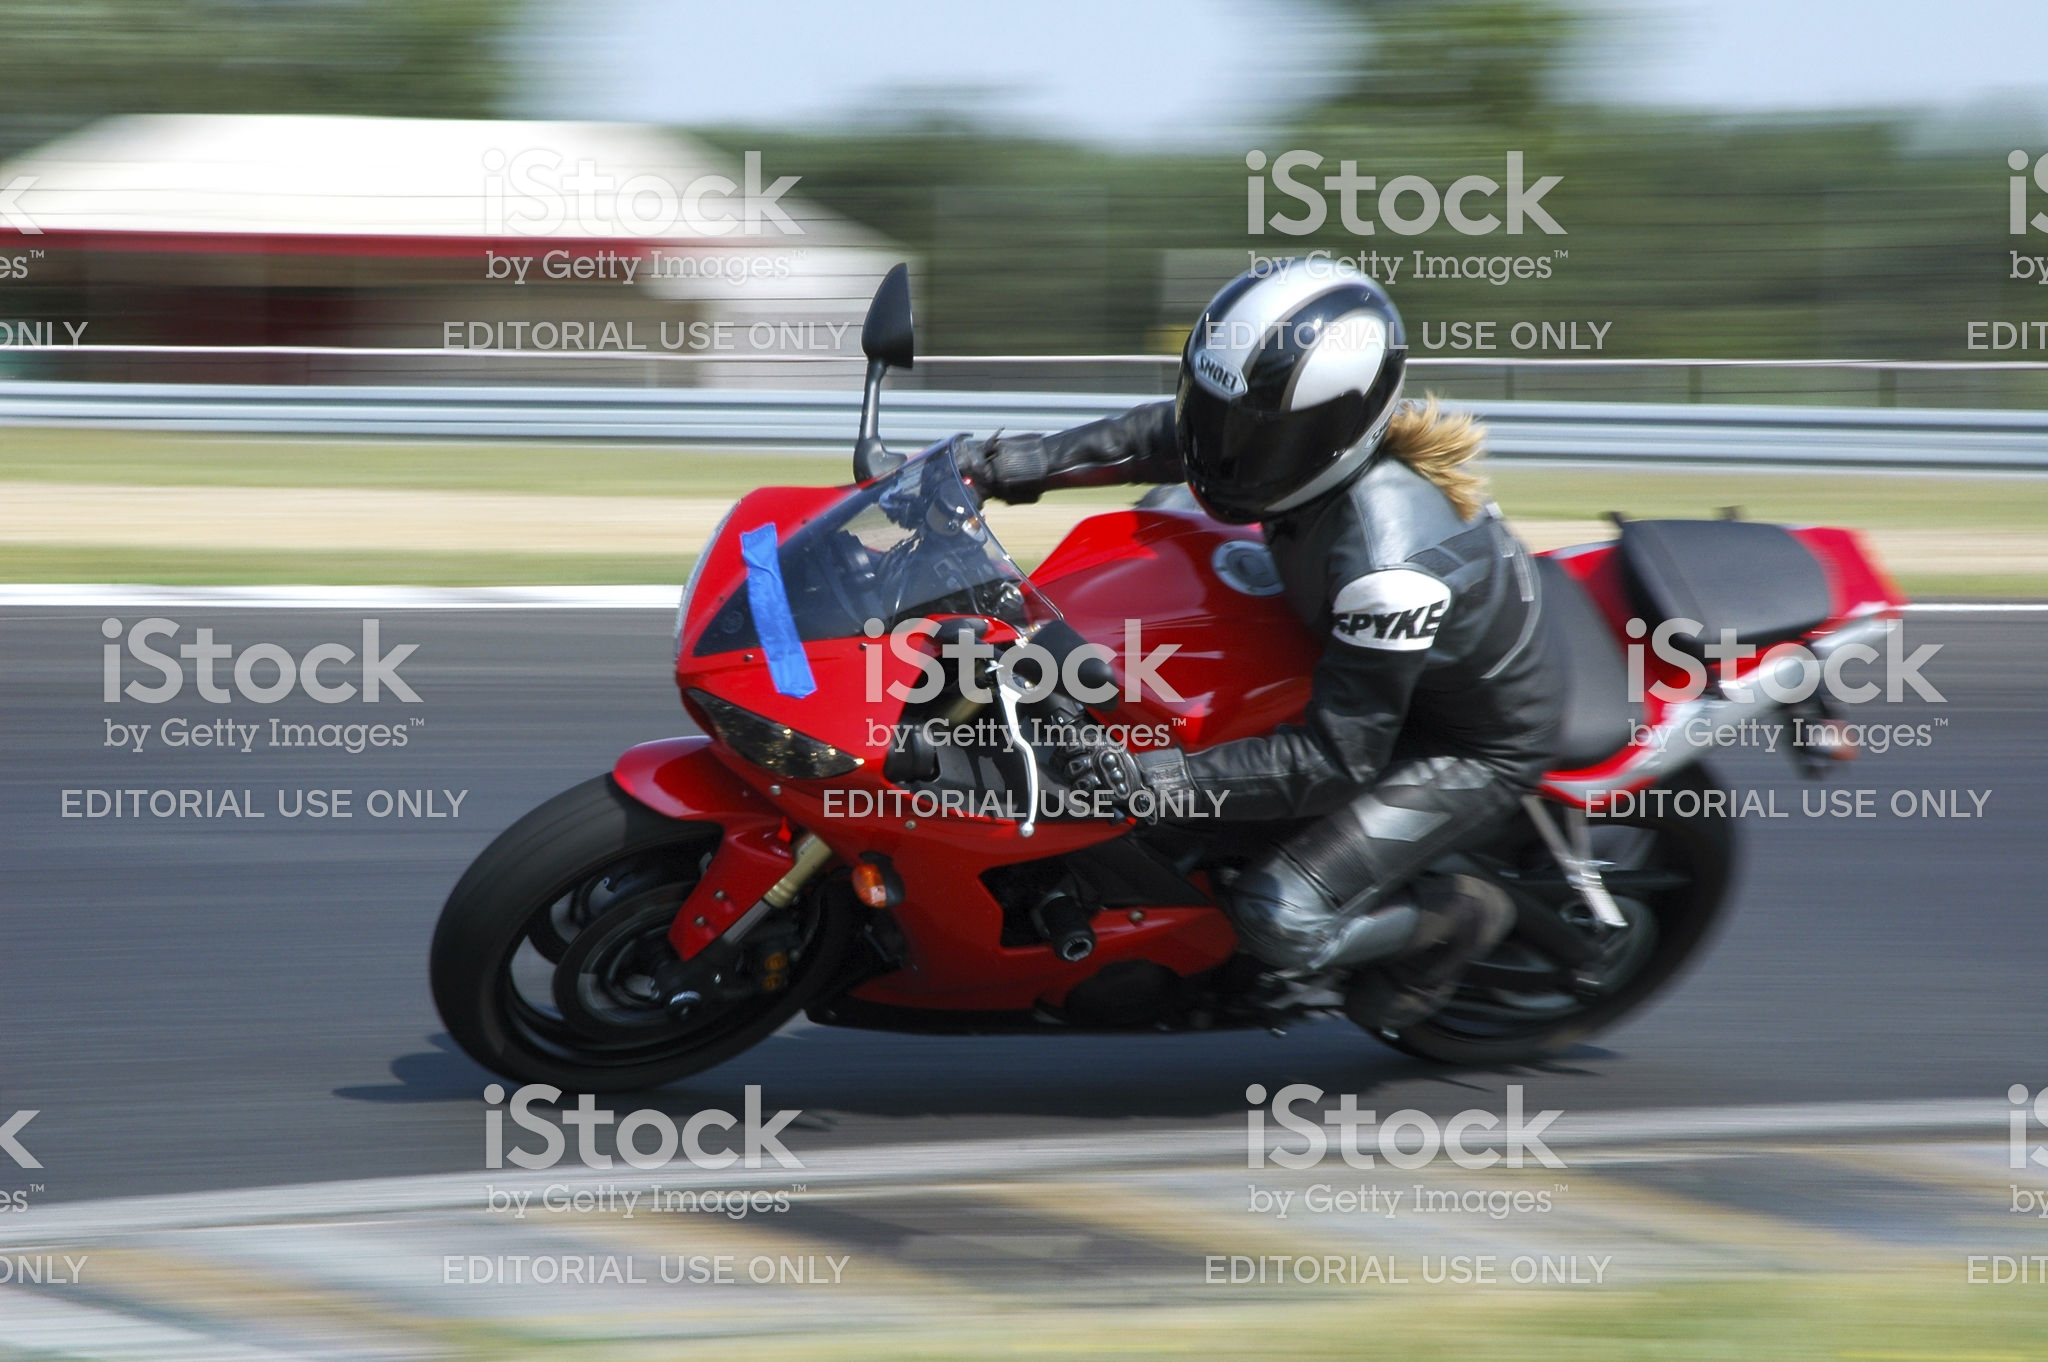helmet: (1161, 261, 1402, 511)
